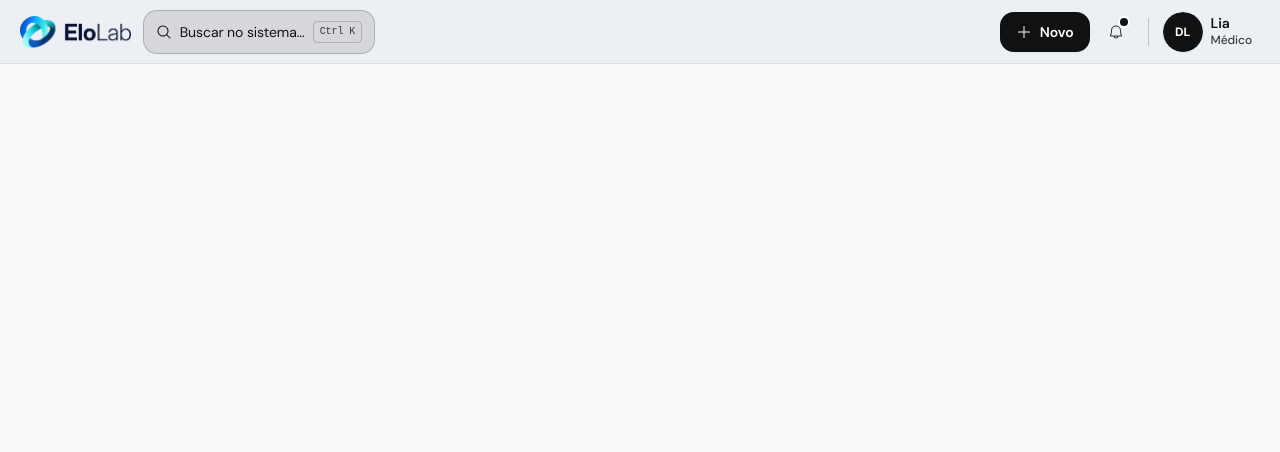
Test: sino de notificações › lista as pendências da central e conta só as não lidas
This screenshot has width=1280, height=452.
What coordinates should you click on to do the following:
click the button named "Abrir notificações"
I would click on:
 (1116, 32)
Its box is [1094, 10, 1138, 54].
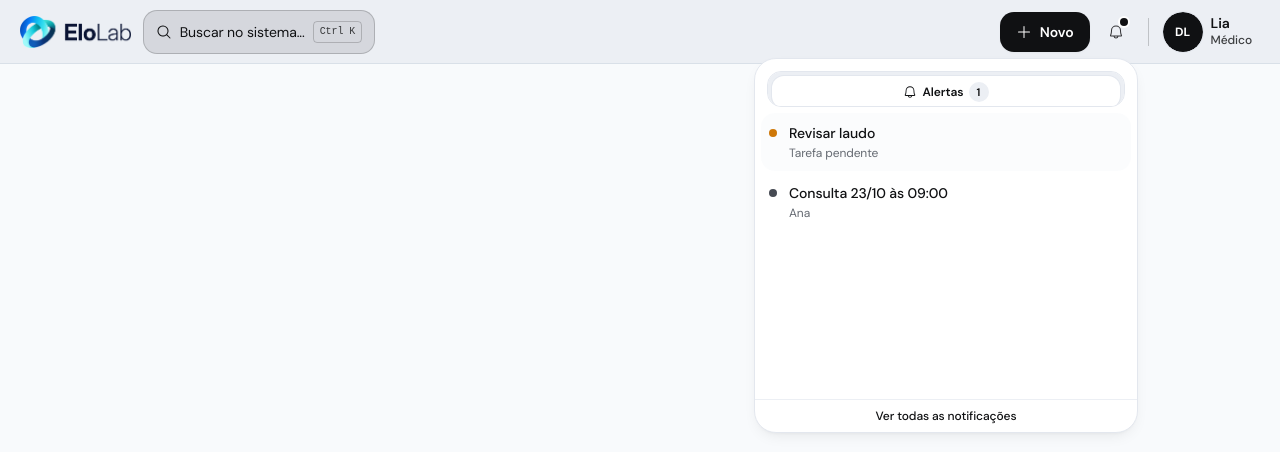
Expected: the text "Revisar laudo" is shown, [789, 124, 875, 142]
Expected: the text "Consulta 23/10 às 09:00" is shown, [789, 184, 948, 202]
Expected: the tab "Alertas 1" is shown, [772, 76, 1120, 107]
